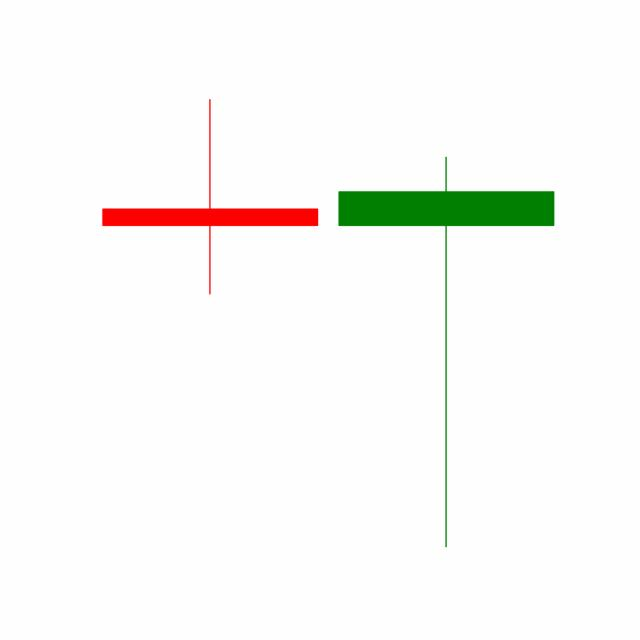Hammer: (327, 152, 565, 552)
